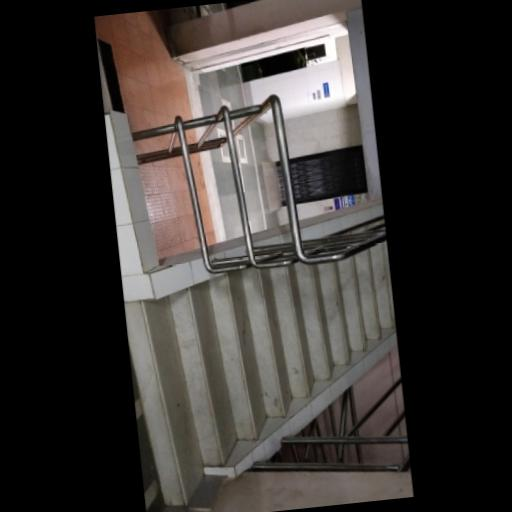stairs: (125, 243, 393, 504)
